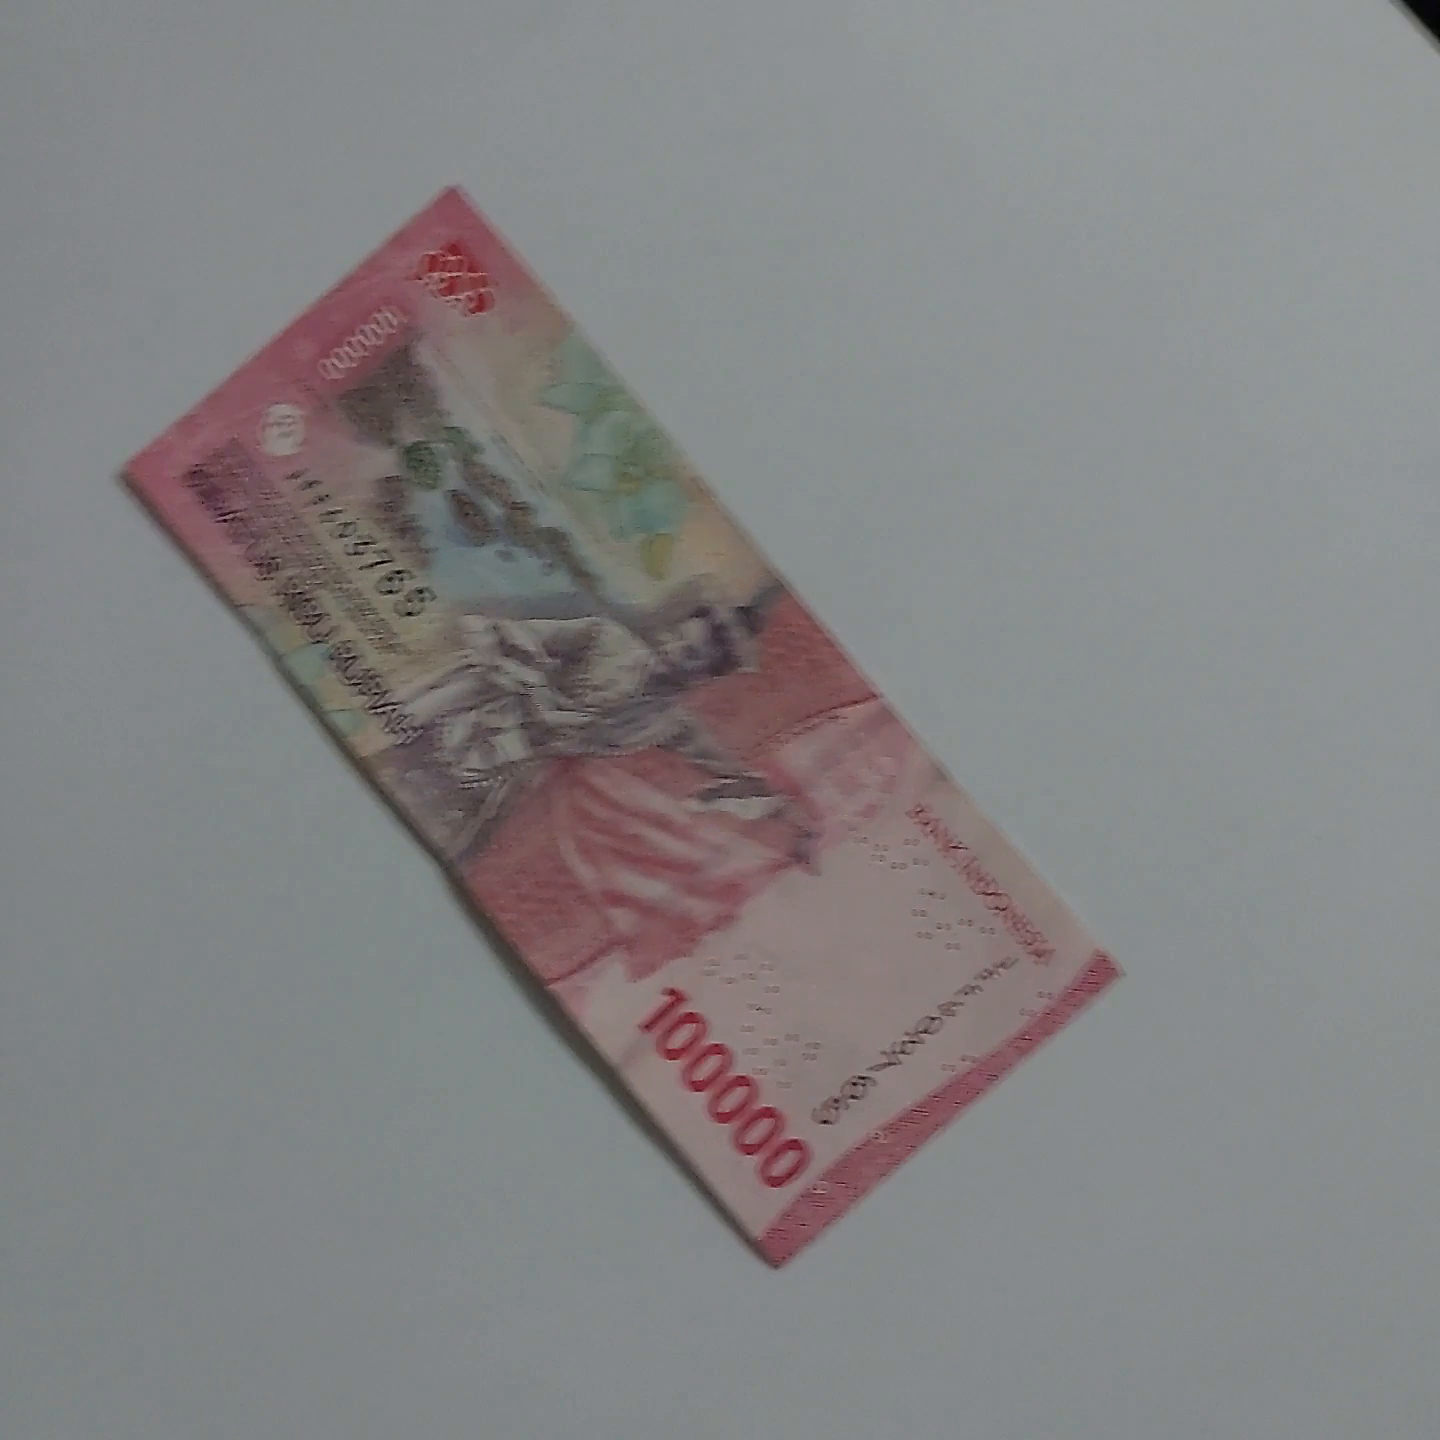100k: (75, 480, 593, 1440)
